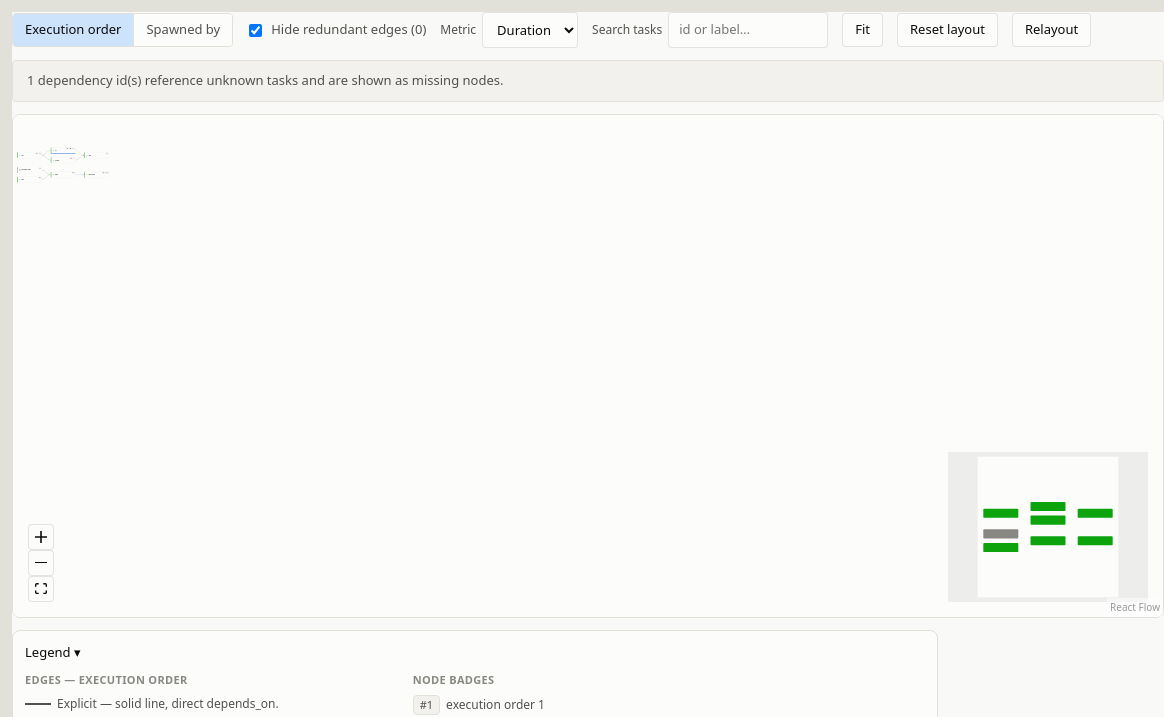
RunGraph detail panel for a missing node (AC-6) › clicking the phantom missing-dep node opens the panel with no crash
Click the element showing "○ missing-dep ⚑": (29, 169) [17,166,42,173]
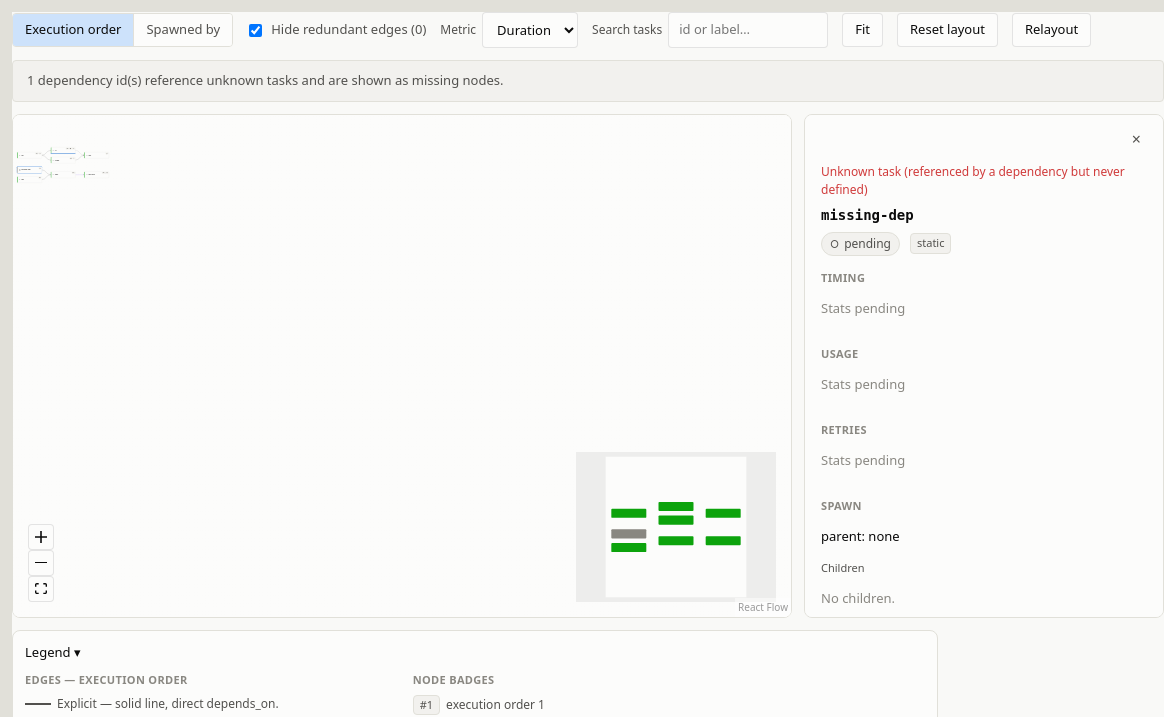
Result: the text "Unknown task (referenced by a dependency but never defined)" is shown at [821,162,1147,198]
